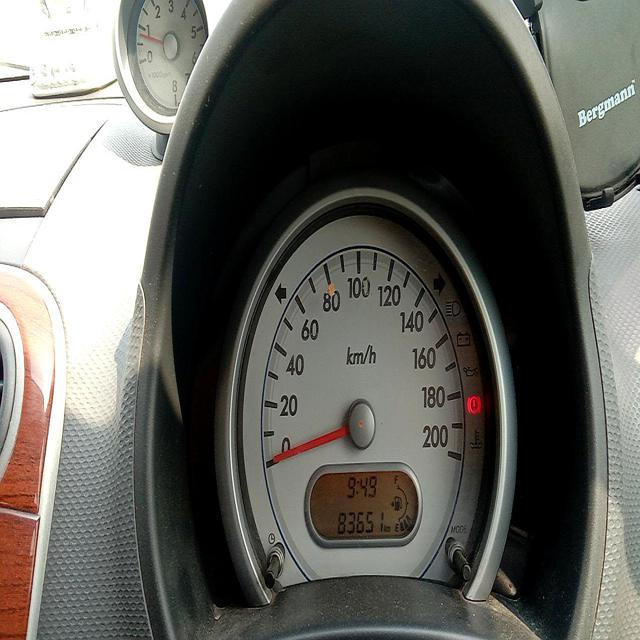odometer: (330, 506, 387, 536)
